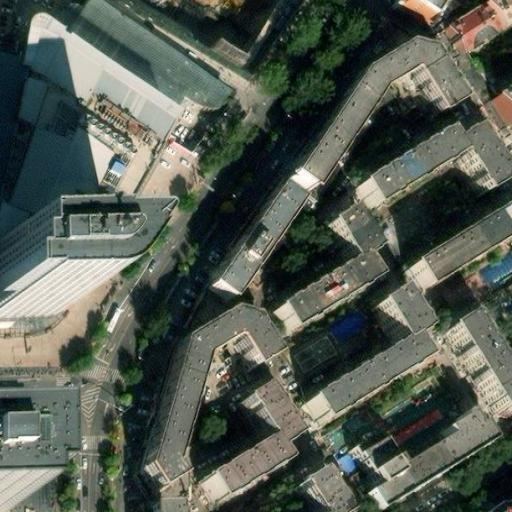building: (0, 33, 167, 272), (283, 53, 455, 205), (138, 320, 269, 499), (300, 297, 417, 429), (348, 135, 500, 220), (269, 214, 368, 339), (355, 414, 480, 512), (195, 393, 293, 512), (401, 208, 512, 297), (202, 201, 287, 311), (0, 398, 70, 510), (441, 326, 512, 424), (190, 0, 266, 43), (289, 331, 341, 378), (342, 432, 390, 479), (448, 14, 496, 57), (480, 0, 512, 47), (282, 481, 324, 512), (402, 0, 444, 26), (477, 492, 512, 512)
